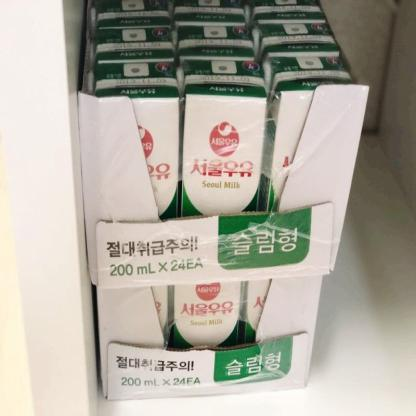tetra: (170, 37, 274, 224)
